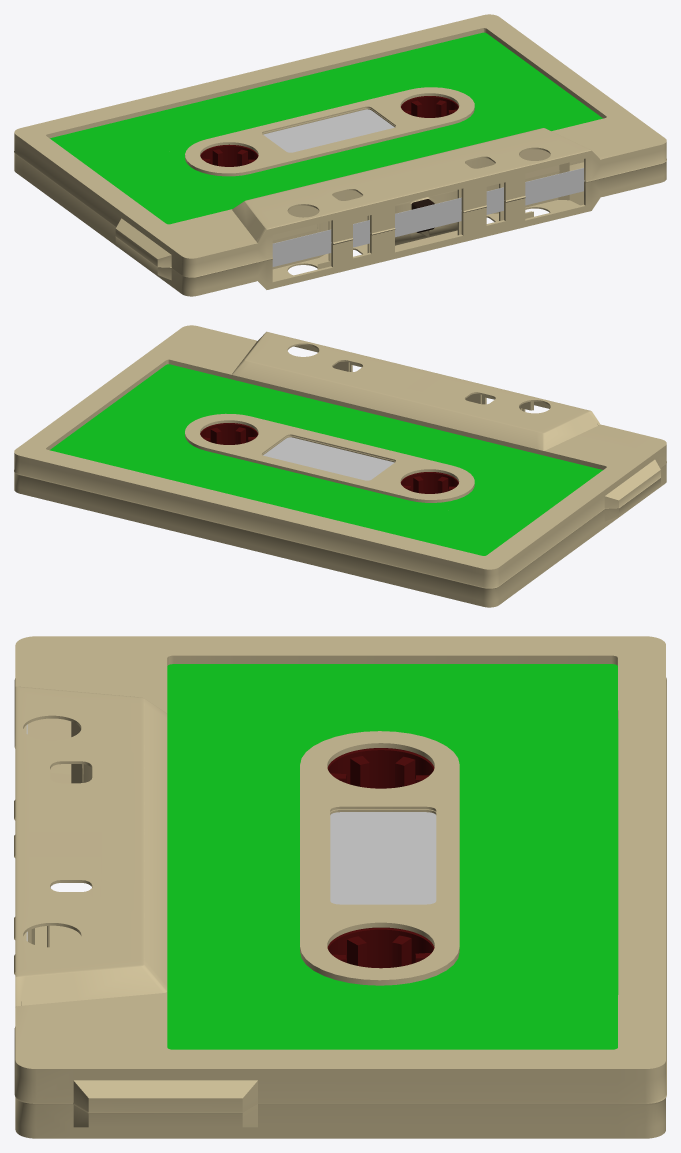
Rendered from kassette_obj.obj.
3 renders of one model, top to bottom at view 1: azimuth 30°, elevation 25°; view 2: azimuth 150°, elevation 25°; view 3: azimuth 270°, elevation 25°, orthographic. The views are drawn at different scales.
Visible parts, largest first — view 1: Cube, Cube.003, Cylinder.001_Cylinder.004, Cube.002; view 2: Cube, Cylinder.001_Cylinder.004; view 3: Cube, Cylinder.001_Cylinder.004.
Boxes of the visible parts, bbox=[...] form: Cube: bbox=[14, 14, 666, 296]; Cube.003: bbox=[272, 168, 584, 266]; Cylinder.001_Cylinder.004: bbox=[200, 96, 458, 166]; Cube.002: bbox=[395, 190, 457, 245]; Cube: bbox=[14, 325, 666, 607]; Cylinder.001_Cylinder.004: bbox=[200, 423, 458, 493]; Cube: bbox=[14, 636, 666, 1138]; Cylinder.001_Cylinder.004: bbox=[327, 748, 434, 968].
Size of the model in its own units: 1.05 by 0.121 by 0.6403.
